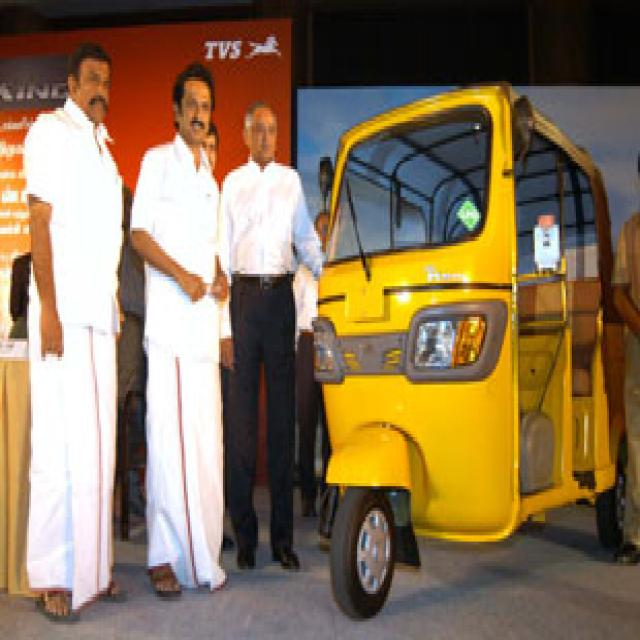autorickshaw: (314, 86, 625, 616)
